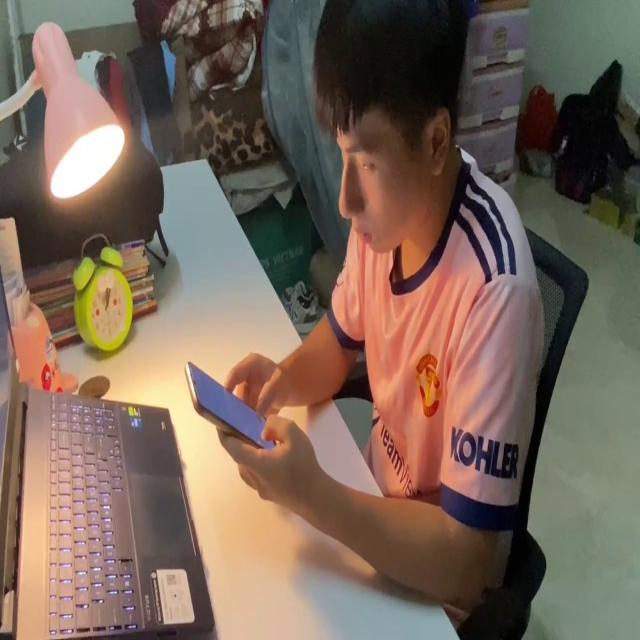laptop: (0, 261, 216, 640)
phone: (184, 355, 280, 458)
student: (213, 0, 543, 612)
